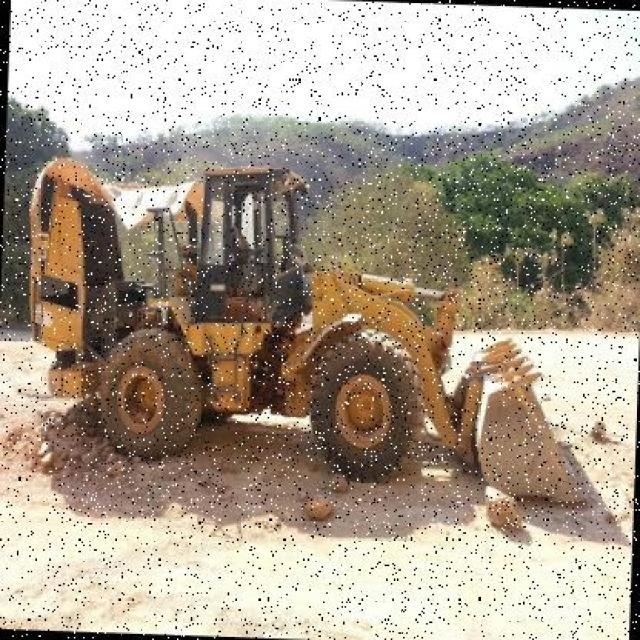buldozerpayloadergrader: (17, 142, 605, 533)
